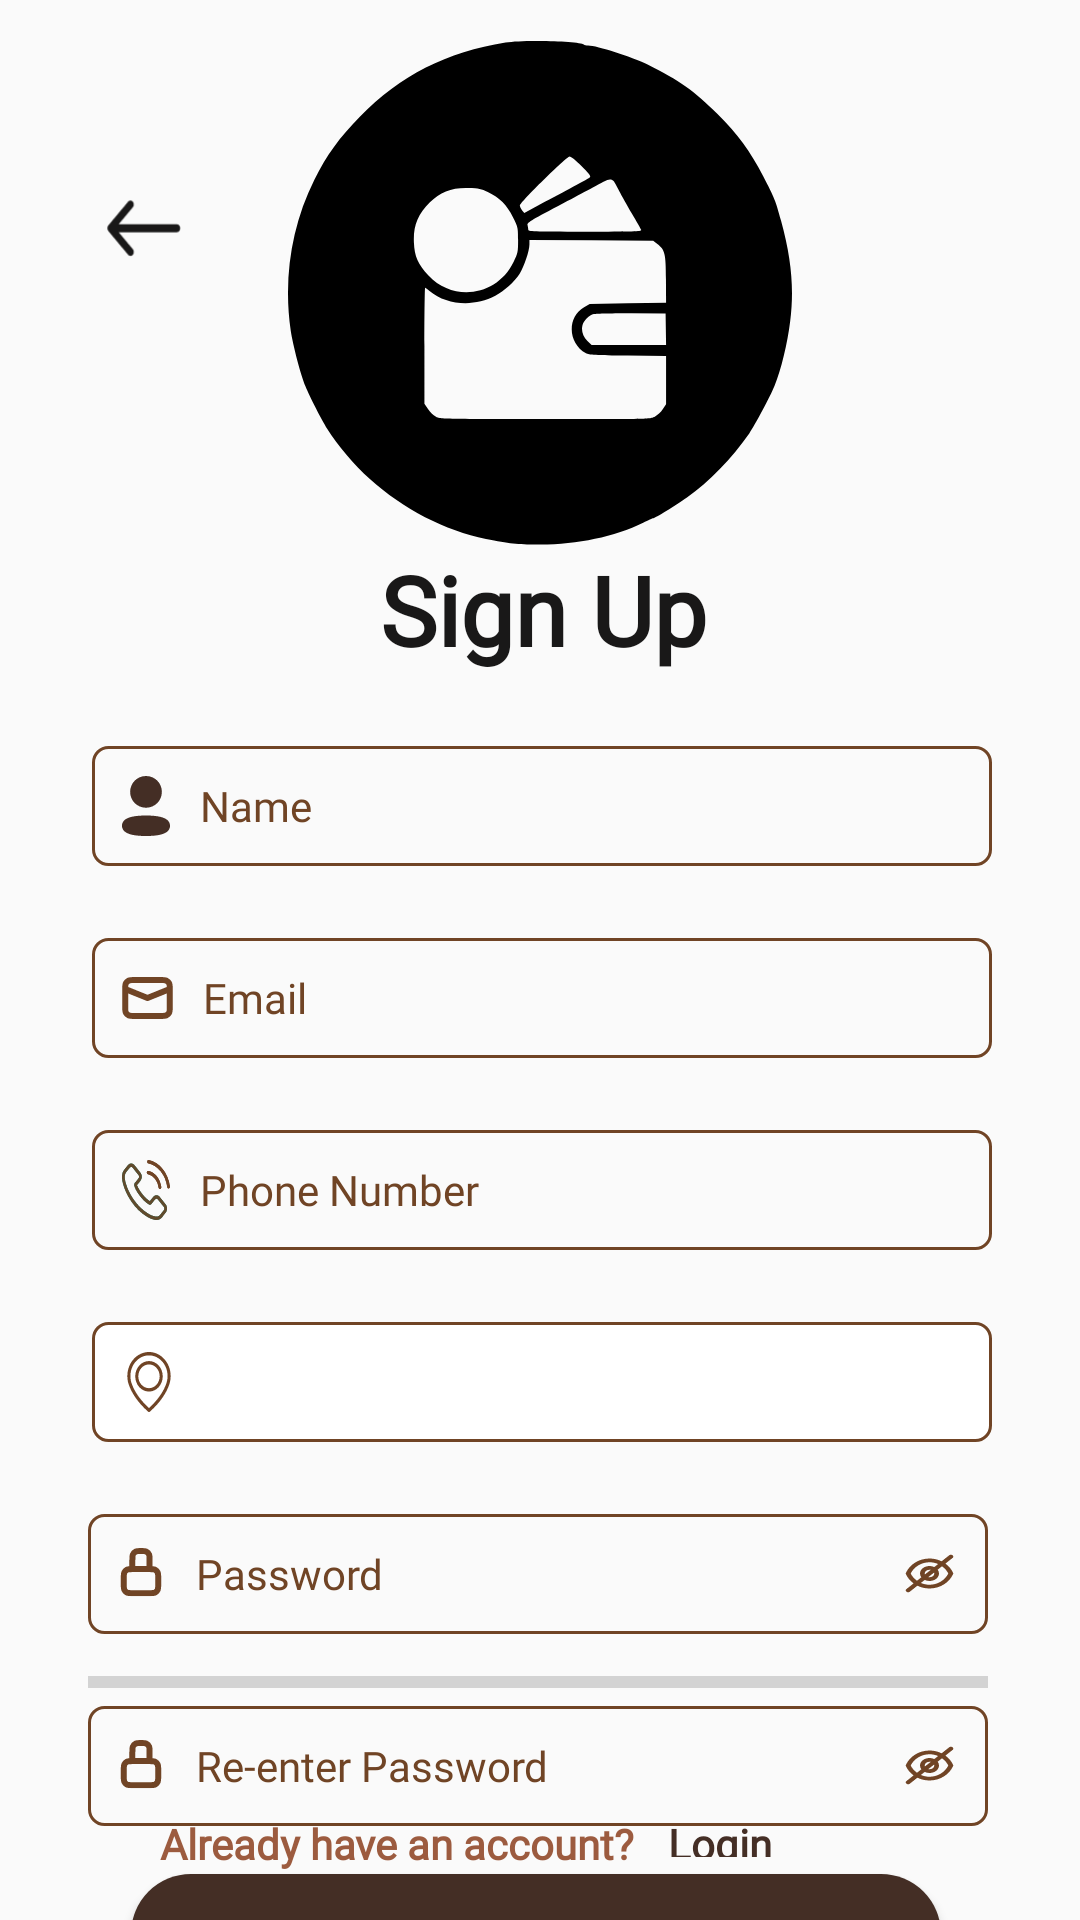

Icons on this 1080x1920 Android screen, each with the point to tap as (x,y):
left arrow: (144,228)
